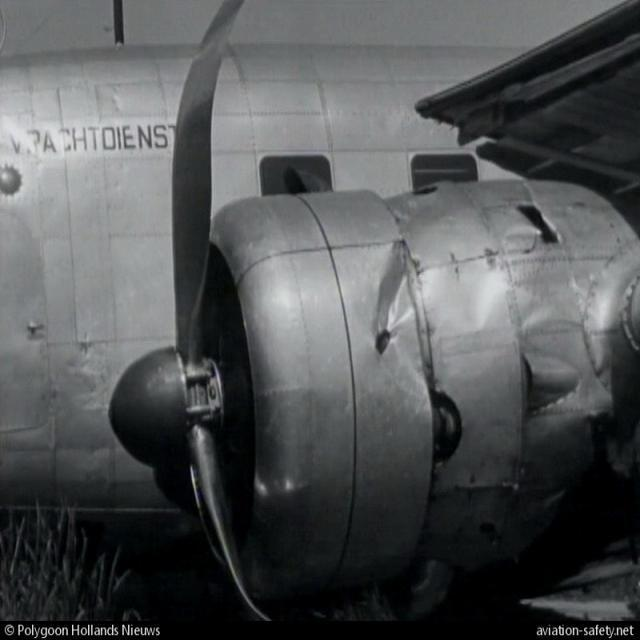crack: (434, 395, 459, 460), (515, 204, 556, 242), (369, 312, 401, 360)
dent: (250, 265, 333, 612), (512, 259, 632, 424), (367, 259, 416, 337), (442, 273, 494, 330)
